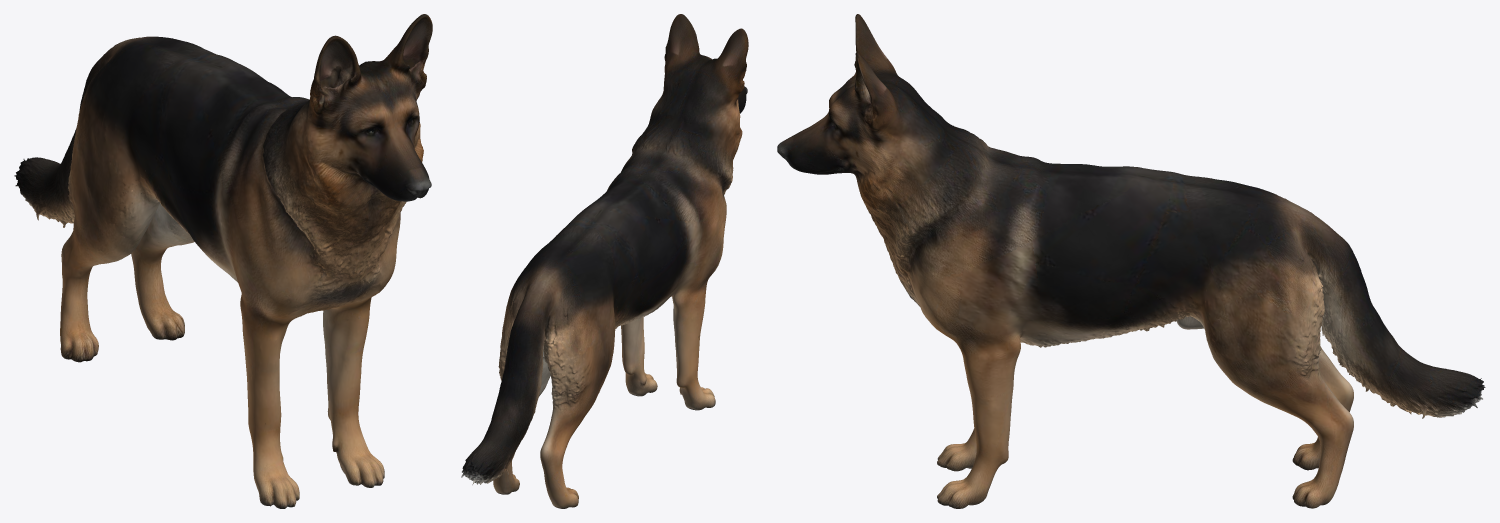
The model's file is berger-allemand-compressed.glb.
3 renders of one model, left to right at view 1: azimuth 30°, elevation 25°; view 2: azimuth 150°, elevation 25°; view 3: azimuth 270°, elevation 25°, orthographic. The views are drawn at different scales.
Size of the model in its own units: 0.3963 by 1.33 by 1.9.
1 material, 1 textured.
